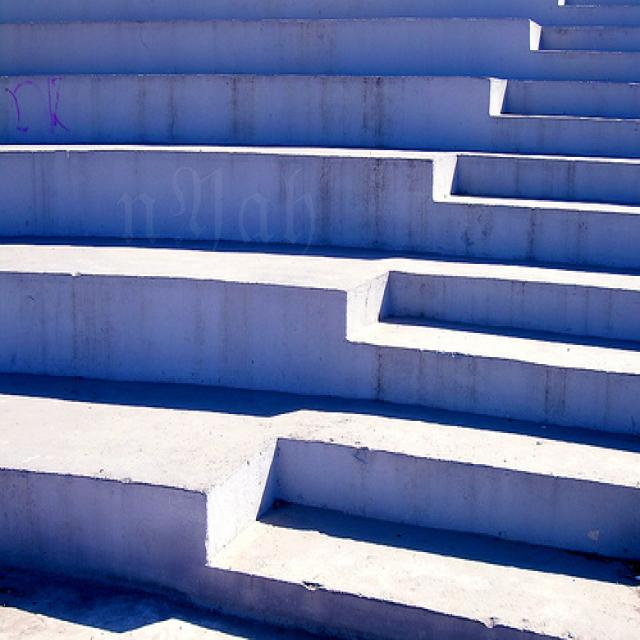upstair: (212, 1, 640, 615)
